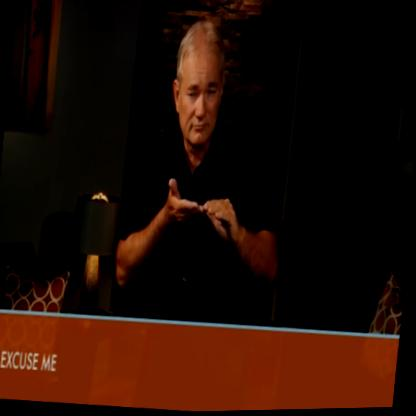ExcuseMe: (111, 5, 305, 326)
